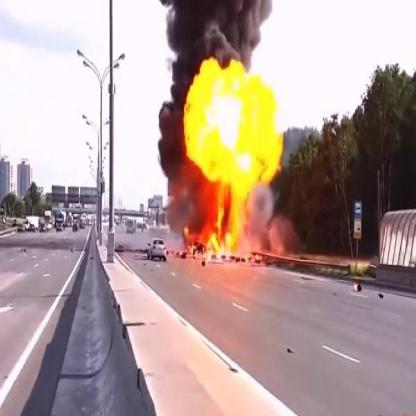fire: (181, 54, 284, 263)
